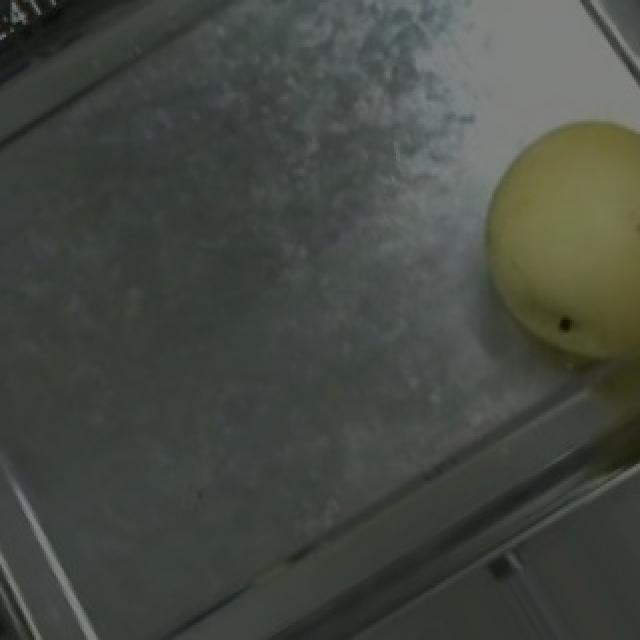Fruit: (438, 77, 640, 397)
